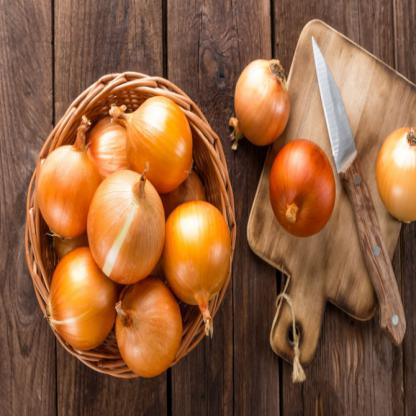onion: (94, 164, 166, 272), (262, 142, 332, 244), (125, 90, 192, 190), (166, 205, 232, 302), (56, 250, 110, 361), (122, 288, 182, 384), (235, 60, 290, 150), (42, 148, 96, 230), (378, 124, 416, 230)
